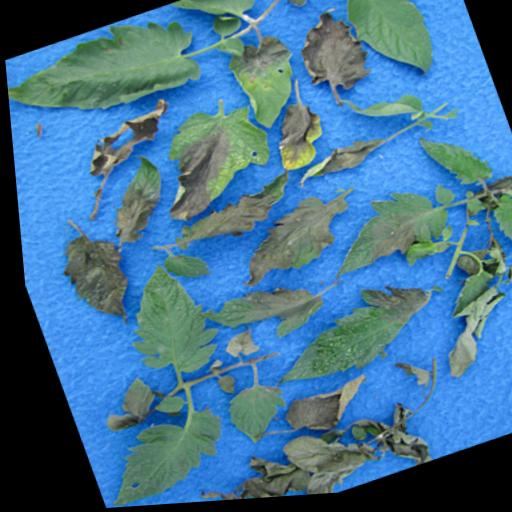Healthy: (98, 254, 224, 391), (81, 404, 233, 509), (481, 192, 512, 275)
Late Blight: (1, 0, 223, 145), (255, 273, 446, 398), (119, 90, 283, 231), (310, 179, 460, 285), (223, 184, 370, 291), (156, 166, 306, 263), (194, 268, 340, 359), (81, 142, 181, 254), (215, 28, 314, 136), (414, 126, 490, 210)
